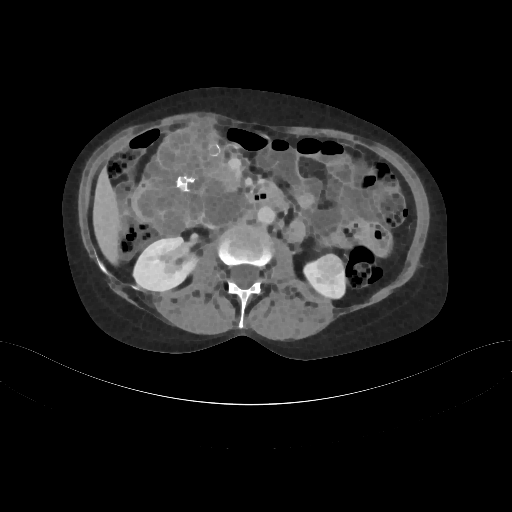Lesion: (315, 253, 344, 280)
